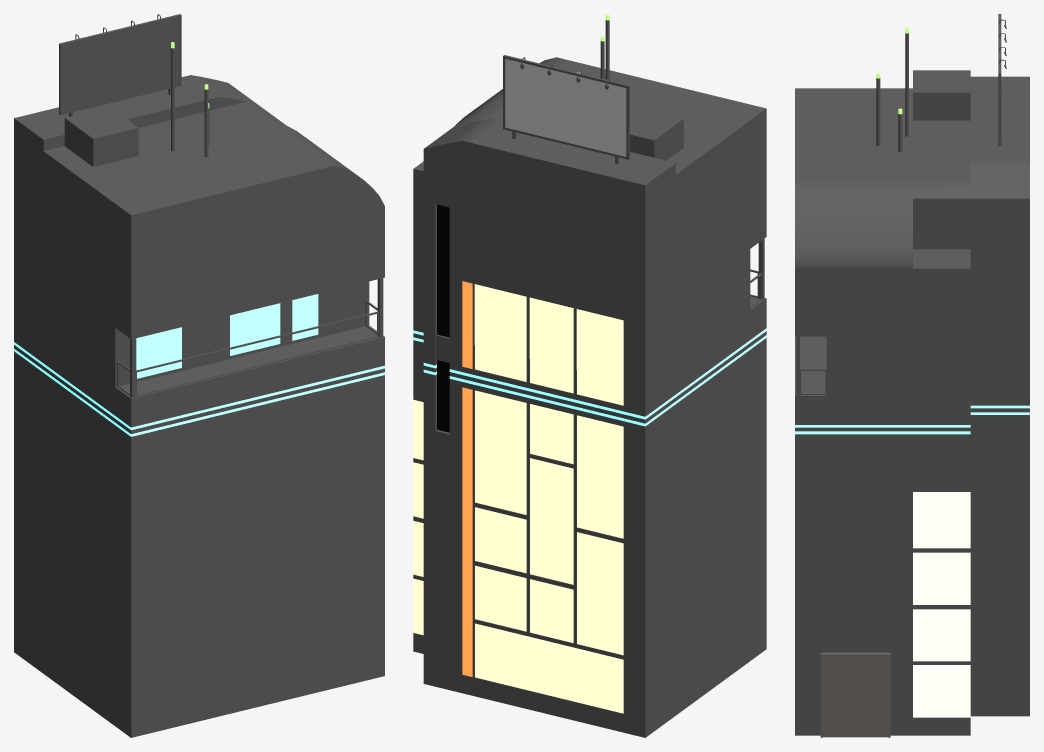
Rendered from SM_FutureScraper.fbx.
The picture shows the model from 3 angles, left to right: view 1: azimuth 30°, elevation 25°; view 2: azimuth 150°, elevation 25°; view 3: azimuth 270°, elevation 25°; orthographic projection. The views are drawn at different scales.
Parts seen in each view (by area): view 1: Cube.002, Cube.004; view 2: Cube.002, Cube.004; view 3: Cube.002, Smallerhouse2.004, Cube.004.
Part boxes in pixels (box(x1,y1,x2,y2)): Cube.002: box(14, 42, 384, 737); Cube.004: box(59, 14, 181, 116); Cube.002: box(413, 14, 766, 737); Cube.004: box(503, 55, 629, 164); Cube.002: box(795, 27, 1029, 735); Smallerhouse2.004: box(820, 652, 890, 737); Cube.004: box(998, 14, 1006, 146).
Size of the model in its own units: 761 by 1782 by 600.
